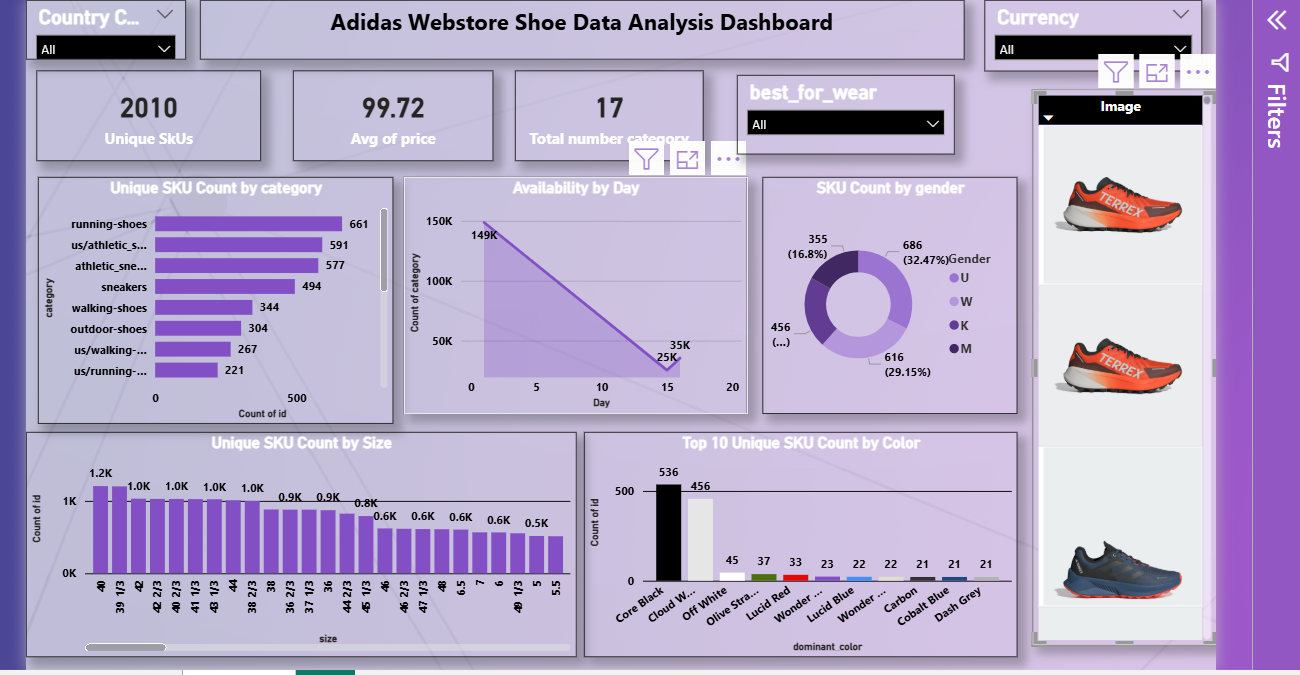

The dashboard page shown, as its layout file describes it:
{"tool":"powerbi","page":{"name":"Page 1","canvas":[1280,720],"ordinal":0},"visuals":[{"type":"textbox","box":[187.1,0,822.1,64.3],"z":0},{"type":"card","fields":{"Values":["Count(shoes_fact.id)"]},"box":[11.3,76.1,241.3,97.2],"z":1000},{"type":"card","fields":{"Values":["Avg(shoes_fact.price)"]},"box":[286.6,76.1,215.4,97.2],"z":2000},{"type":"slicer","fields":{"Values":["country_dim.currency"]},"box":[1030.7,0,233.8,76.3],"z":3000},{"type":"barChart","title":"Unique SKU Count by category","fields":{"Category":["shoes_fact.category"],"Y":["Count(shoes_fact.id)"]},"box":[13,191.1,382.1,265.6],"z":4000},{"type":"slicer","fields":{"Values":["country_dim.country_code"]},"box":[0,0,172,64.3],"z":5000},{"type":"card","fields":{"Values":["Count(shoes_fact.category)"]},"box":[526.2,76.1,202.4,97.2],"z":6000},{"type":"columnChart","title":"Unique SKU Count by Size","fields":{"Category":["shoes_fact.size"],"Y":["Count(shoes_fact.id)"]},"box":[0,464.5,591.9,241.9],"z":7000},{"type":"areaChart","title":" Availability by Day","fields":{"Category":["shoes_fact.date.Variation.Date Hierarchy.Day"],"Y":["CountNonNull(shoes_fact.category)"]},"box":[407.2,190.9,369,254.5],"z":8000},{"type":"donutChart","title":" SKU Count by gender","fields":{"Y":["Count(shoes_fact.id)"],"Category":["shoes_dim.gender"]},"box":[791.9,190.3,274.2,254.8],"z":9000},{"type":"columnChart","title":" Top 10 Unique SKU Count by Color","fields":{"Y":["Count(shoes_fact.id)"],"Category":["shoes_dim.dominant_color"]},"box":[600,464.5,466.1,241.9],"z":10000},{"type":"tableEx","fields":{"Values":["shoes_dim.image_url"]},"box":[1082.3,96.8,198.4,596.8],"z":11000},{"type":"slicer","fields":{"Values":["shoes_dim.best_for_wear"]},"box":[764.5,80.6,233.9,85.5],"z":11001}]}

Visuals, with their boxes in screenshot pixels (x1, y1, x2, y2):
textbox: (left=203, top=0, right=962, bottom=56)
card - Count(shoes_fact.id): (left=41, top=67, right=264, bottom=157)
card - Avg(shoes_fact.price): (left=295, top=67, right=494, bottom=157)
slicer - country_dim.currency: (left=982, top=0, right=1197, bottom=67)
"Unique SKU Count by category" barChart: (left=42, top=173, right=395, bottom=418)
slicer - country_dim.country_code: (left=30, top=0, right=189, bottom=56)
card - Count(shoes_fact.category): (left=516, top=67, right=703, bottom=157)
"Unique SKU Count by Size" columnChart: (left=30, top=425, right=577, bottom=648)
" Availability by Day" areaChart: (left=406, top=173, right=747, bottom=408)
" SKU Count by gender" donutChart: (left=761, top=172, right=1014, bottom=407)
" Top 10 Unique SKU Count by Color" columnChart: (left=584, top=425, right=1014, bottom=648)
tableEx - shoes_dim.image_url: (left=1029, top=86, right=1212, bottom=637)
slicer - shoes_dim.best_for_wear: (left=736, top=71, right=952, bottom=150)
